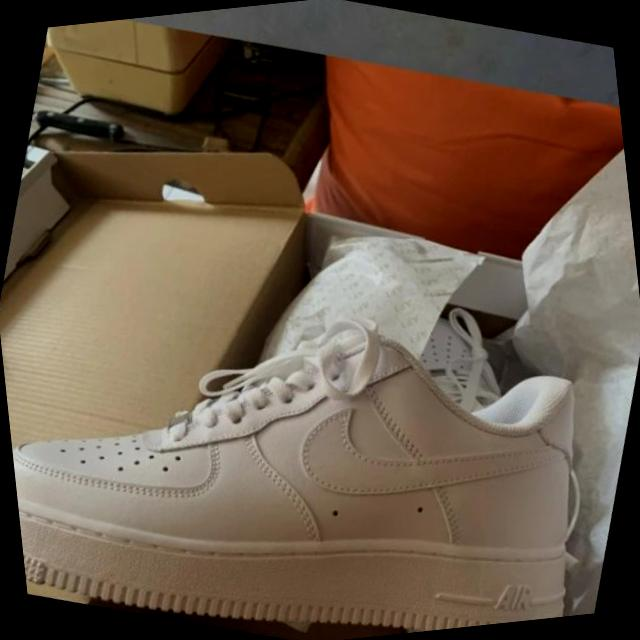nike_original_airforce: (0, 203, 631, 640)
